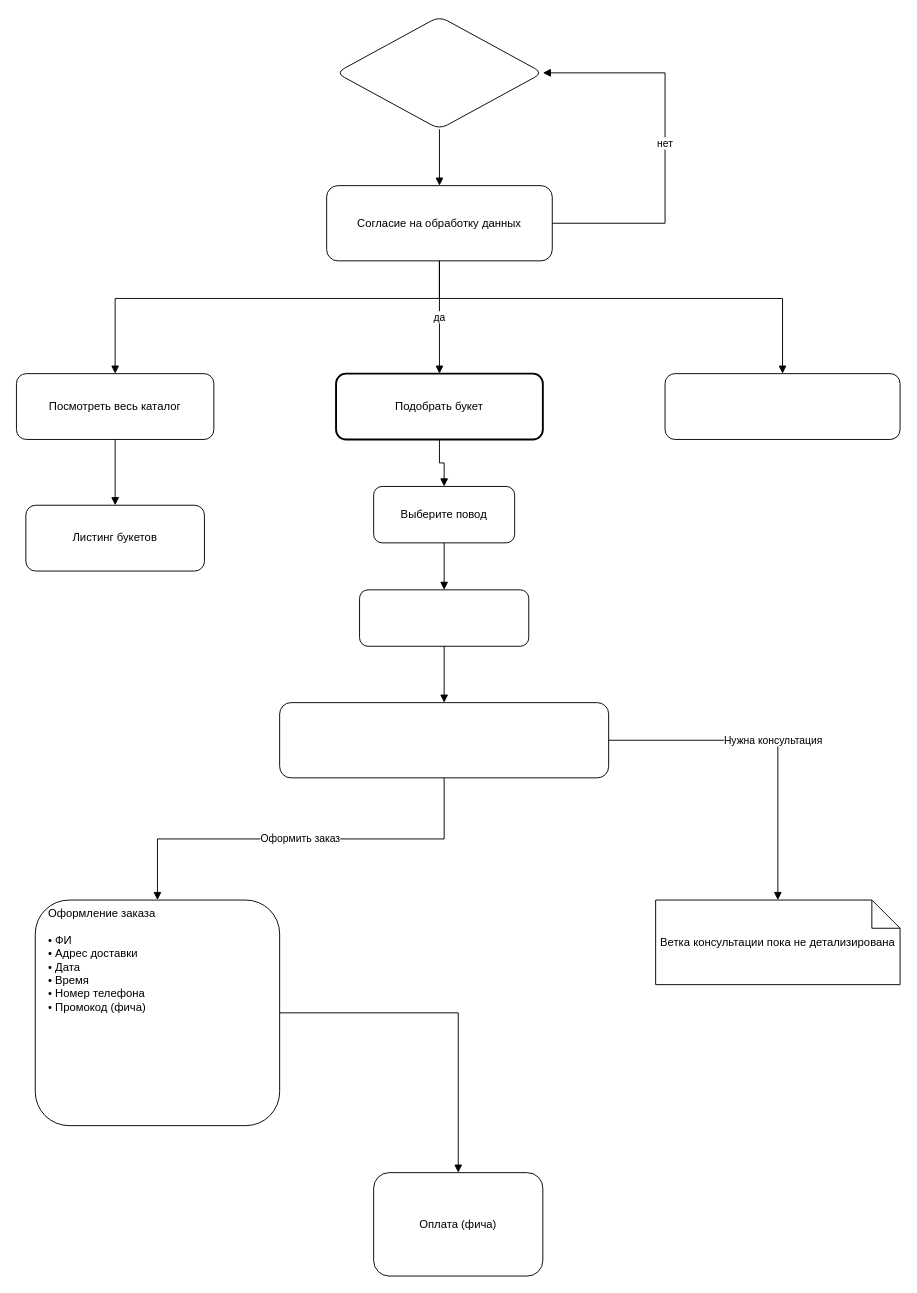
This 917x1293 diagram has some shape labels left out. Here are the shapes that lost their labels. From the top down, the box of each, then its label:
(335, 16, 543, 129): Старт бота
(664, 373, 900, 439): Мне не нужна консультация
(359, 589, 529, 646): Примерная стоимость
(279, 702, 609, 778): Карточка подобранного букета
